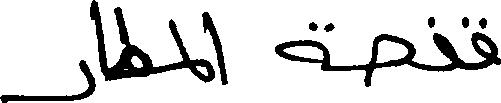X: (0, 0, 94, 102), (168, 7, 212, 87), (276, 17, 329, 75), (114, 2, 151, 84), (370, 29, 413, 90), (472, 13, 500, 74), (433, 12, 457, 76), (96, 0, 107, 85), (214, 21, 227, 89)
